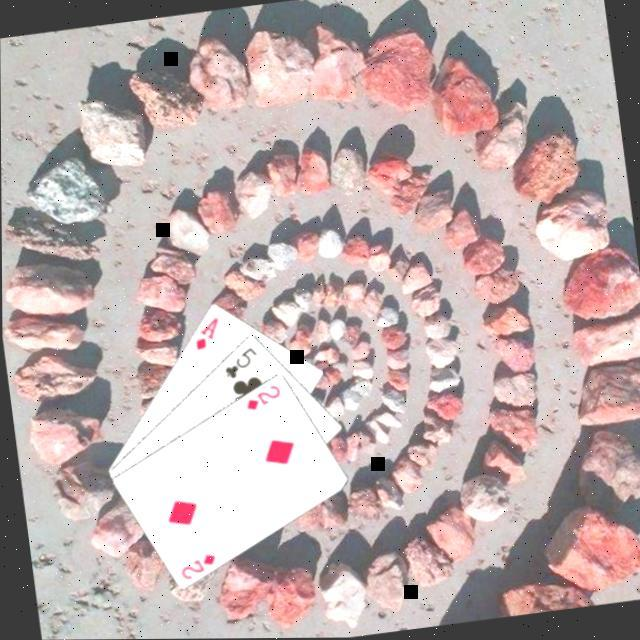2D: (241, 378, 286, 412), (177, 547, 220, 580)
5C: (220, 341, 262, 379)
AD: (190, 311, 225, 351)
